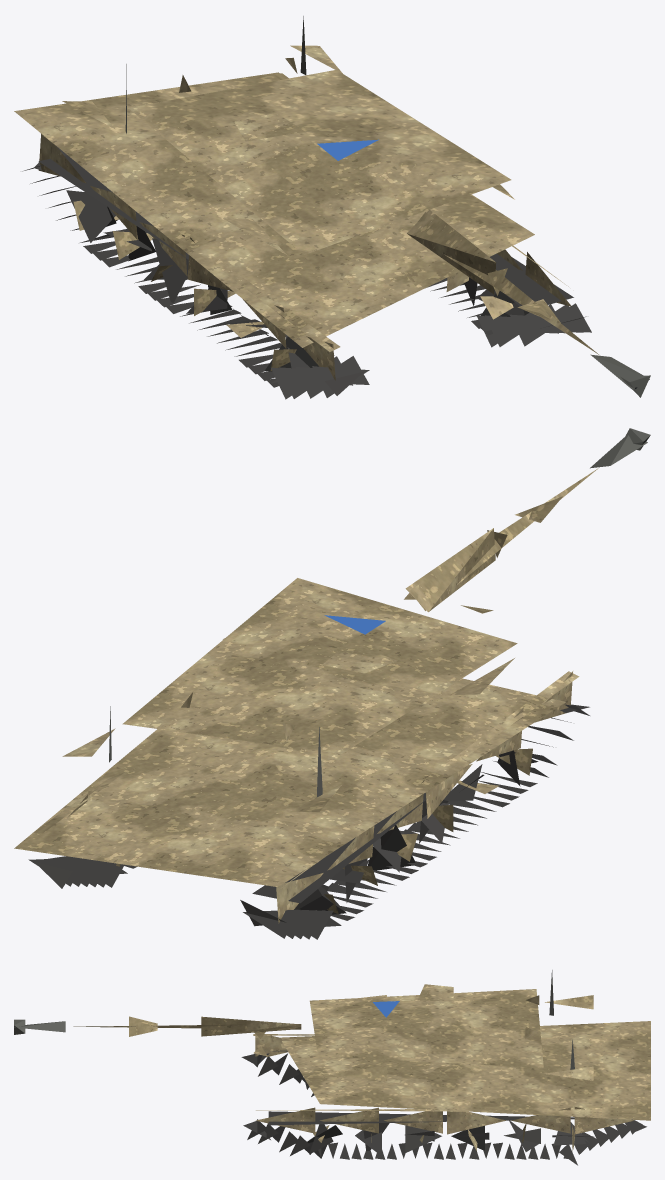
File: afv_e4_us_tankdestroyer_LOD2.glb
3 renders of one model, top to bottom at view 1: azimuth 30°, elevation 25°; view 2: azimuth 150°, elevation 25°; view 3: azimuth 270°, elevation 25°, orthographic. The views are drawn at different scales.
Parts seen in each view (by area): view 1: afv_e4_us_tankdestroyer_LOD2_body, afv_e4_us_tankdestroyer_LOD2_track, afv_e4_us_tankdestroyer_LOD2_gun, afv_e4_us_tankdestroyer_LOD2_team; view 2: afv_e4_us_tankdestroyer_LOD2_body, afv_e4_us_tankdestroyer_LOD2_track, afv_e4_us_tankdestroyer_LOD2_gun; view 3: afv_e4_us_tankdestroyer_LOD2_body, afv_e4_us_tankdestroyer_LOD2_track, afv_e4_us_tankdestroyer_LOD2_gun.
Part boxes in pixels (x1,y1,x2,y2): afv_e4_us_tankdestroyer_LOD2_body: (14, 45, 598, 380); afv_e4_us_tankdestroyer_LOD2_track: (22, 146, 591, 399); afv_e4_us_tankdestroyer_LOD2_gun: (125, 16, 650, 397); afv_e4_us_tankdestroyer_LOD2_team: (317, 139, 378, 160); afv_e4_us_tankdestroyer_LOD2_body: (14, 468, 598, 923); afv_e4_us_tankdestroyer_LOD2_track: (28, 704, 589, 939); afv_e4_us_tankdestroyer_LOD2_gun: (109, 428, 650, 797); afv_e4_us_tankdestroyer_LOD2_body: (73, 984, 650, 1151); afv_e4_us_tankdestroyer_LOD2_track: (241, 1050, 646, 1165); afv_e4_us_tankdestroyer_LOD2_gun: (14, 970, 574, 1069).
Bounding box in the file's own units: 3.15 × 2.22 × 10.2.
5 materials, 1 textured.
